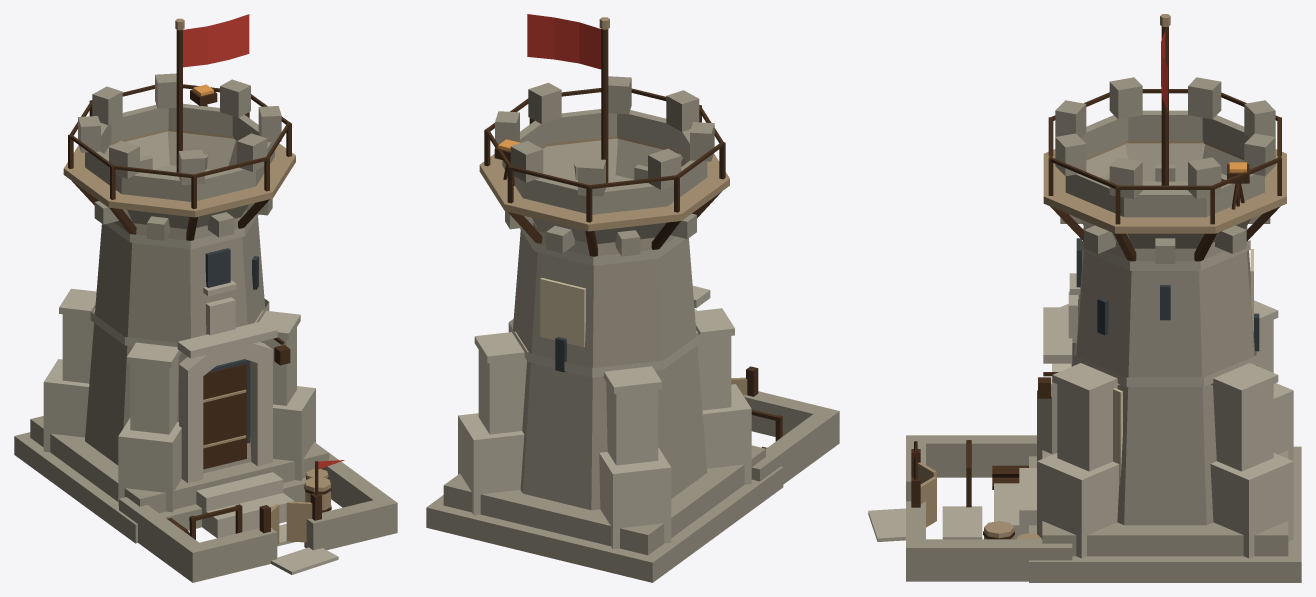
File: era1-watchtower-DG5lcYqp.glb
3 views of the same model, side by side, from view 1: azimuth 30°, elevation 25°; view 2: azimuth 150°, elevation 25°; view 3: azimuth 270°, elevation 25° (orthographic). The views are drawn at different scales.
Visible parts, largest first — view 1: WT_Shaft, WT_Parapet, WT_PlinthHigh, WT_GalleryDeck, WT_PlinthLow, WT_Buttress2Low, WT_Door, WT_Crown, WT_YardWallFrontL, WT_YardWallFrontR, WT_Buttress2High, WT_Buttress0Low (+35 smaller); view 2: WT_Shaft, WT_PlinthLow, WT_PlinthHigh, WT_Parapet, WT_GalleryDeck, WT_Buttress3Low, WT_Buttress1Low, WT_Crown, WT_Buttress3High, WT_Buttress1High, WT_Buttress2Low, WT_Flag (+20 smaller); view 3: WT_Shaft, WT_Parapet, WT_PlinthLow, WT_PlinthHigh, WT_GalleryDeck, WT_Buttress1Low, WT_Buttress0Low, WT_YardWallR, WT_Buttress1High, WT_Buttress0High, WT_Crown, WT_YardWallL (+27 smaller).
Part boxes in pixels (x1,y1,x2,y2): WT_Shaft: [85, 165, 265, 473]; WT_Parapet: [85, 103, 274, 201]; WT_PlinthHigh: [30, 416, 329, 513]; WT_GalleryDeck: [63, 129, 295, 217]; WT_PlinthLow: [14, 432, 306, 543]; WT_Buttress2Low: [118, 418, 181, 512]; WT_Door: [203, 363, 246, 469]; WT_Crown: [104, 131, 247, 229]; WT_YardWallFrontL: [184, 528, 277, 582]; WT_YardWallFrontR: [304, 500, 397, 550]; WT_Buttress2High: [130, 357, 178, 434]; WT_Buttress0Low: [273, 386, 315, 480]; WT_Shaft: [513, 175, 707, 510]; WT_PlinthLow: [426, 466, 783, 582]; WT_PlinthHigh: [443, 445, 765, 555]; WT_Parapet: [502, 109, 707, 214]; WT_GalleryDeck: [479, 136, 729, 231]; WT_Buttress3Low: [599, 447, 671, 549]; WT_Buttress1Low: [458, 413, 524, 515]; WT_Crown: [531, 138, 685, 243]; WT_Buttress3High: [606, 382, 658, 465]; WT_Buttress1High: [478, 350, 526, 434]; WT_Buttress2Low: [702, 384, 751, 484]; WT_Flag: [527, 14, 601, 69]; WT_Shaft: [1074, 181, 1257, 525]; WT_Parapet: [1065, 110, 1264, 217]; WT_PlinthLow: [1029, 446, 1301, 582]; WT_PlinthHigh: [1042, 450, 1288, 556]; WT_GalleryDeck: [1043, 140, 1286, 233]; WT_Buttress1Low: [1210, 453, 1293, 558]; WT_Buttress0Low: [1037, 453, 1119, 558]; WT_YardWallR: [912, 539, 1072, 581]; WT_Buttress1High: [1213, 384, 1273, 471]; WT_Buttress0High: [1057, 384, 1117, 471]; WT_Crown: [1080, 143, 1250, 248]; WT_YardWallL: [913, 435, 1036, 477].
Size of the model in its own units: 4.1 by 8.45 by 6.52.
